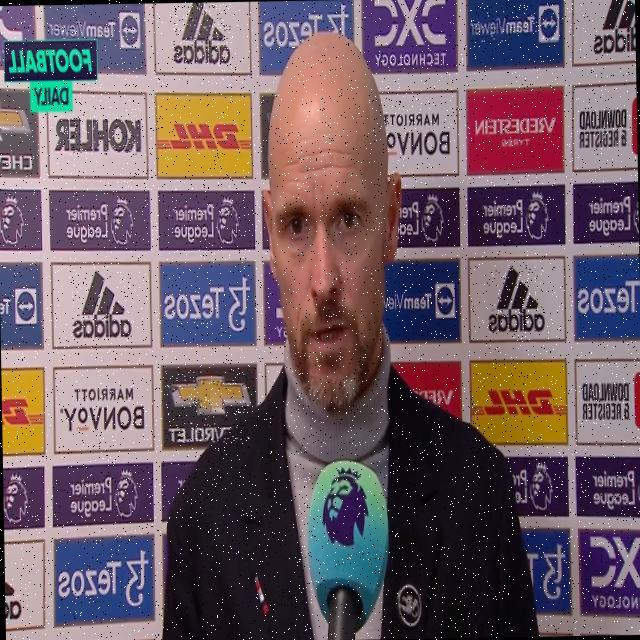Adidas: (70, 268, 132, 341), (485, 264, 544, 333), (173, 2, 232, 67)
Chevrolet: (165, 370, 250, 444)
Kohler: (52, 114, 141, 156)
TeamViewer: (469, 3, 560, 43), (48, 11, 140, 49)
